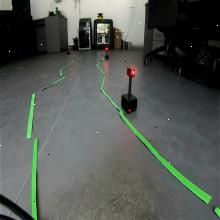red: (127, 66, 136, 78)
